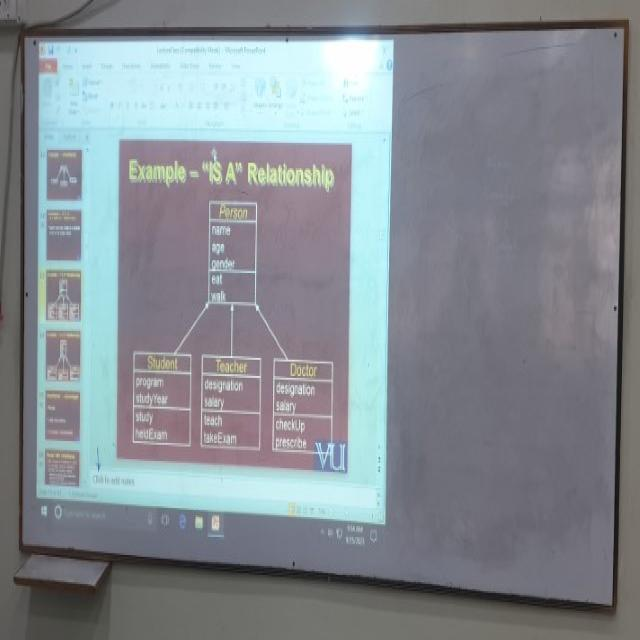Slide: (36, 40, 393, 551)
White-board: (19, 24, 628, 612)
